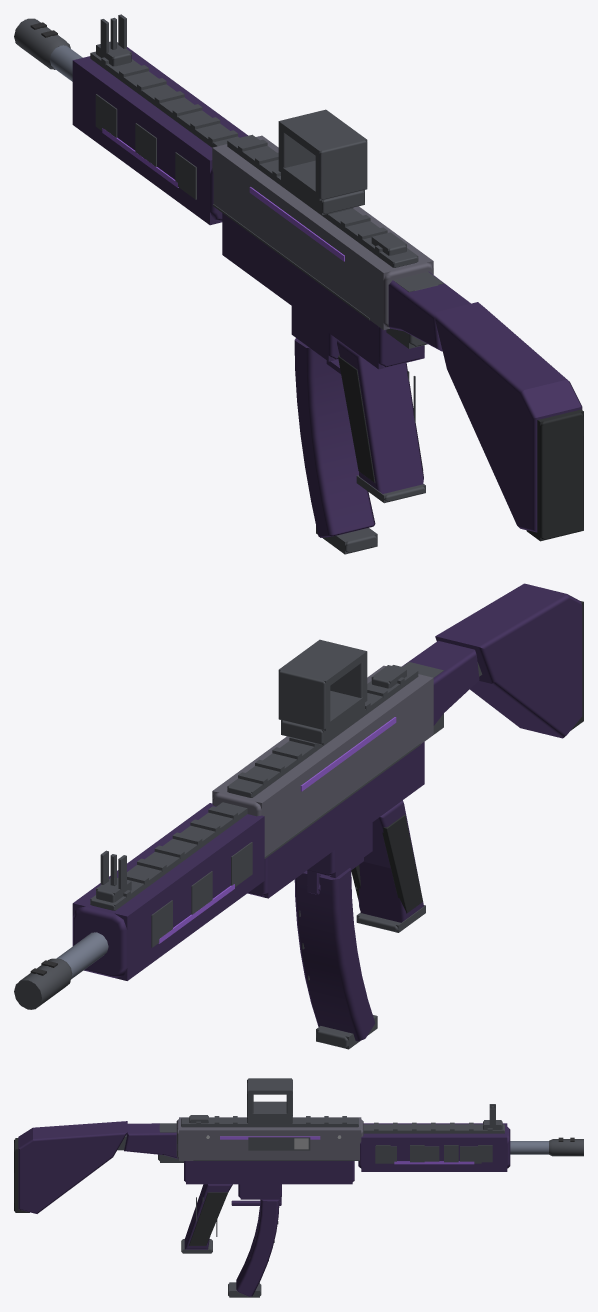
Rendered from c_tether.glb.
The picture shows the model from 3 angles, top to bottom: view 1: azimuth 30°, elevation 25°; view 2: azimuth 150°, elevation 25°; view 3: azimuth 270°, elevation 25°; orthographic projection. The views are drawn at different scales.
Visible parts, largest first — view 1: L0, L1; view 2: L0, L1; view 3: L0, L1.
Part boxes in pixels (bbox=[...]): L0: bbox=[14, 15, 583, 553]; L1: bbox=[15, 14, 583, 554]; L0: bbox=[14, 583, 583, 1048]; L1: bbox=[15, 601, 583, 1049]; L0: bbox=[14, 1079, 583, 1296]; L1: bbox=[15, 1078, 583, 1297].
Bounding box in the file's own units: 0.0481 × 0.3155 × 0.7808.
